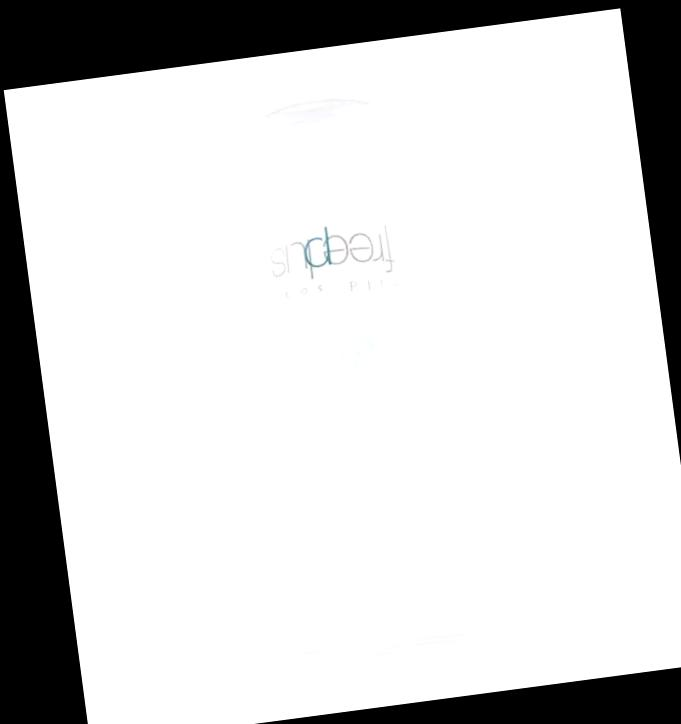cosmetic: (187, 85, 495, 684)
